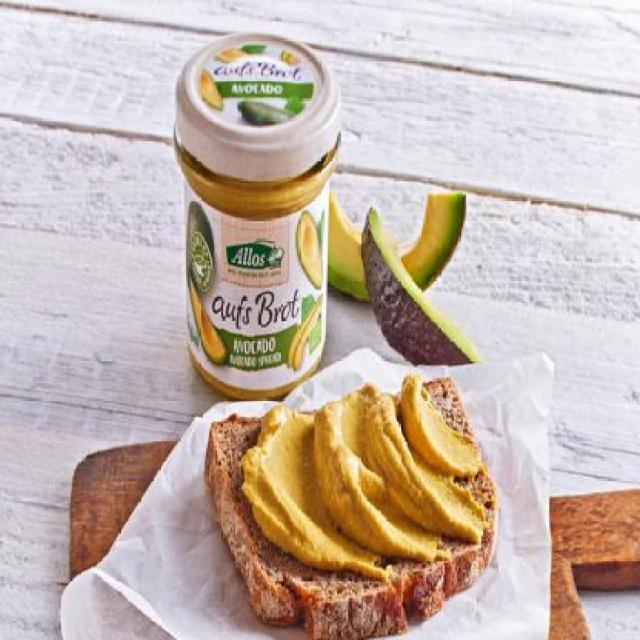Spread: (242, 379, 481, 570)
